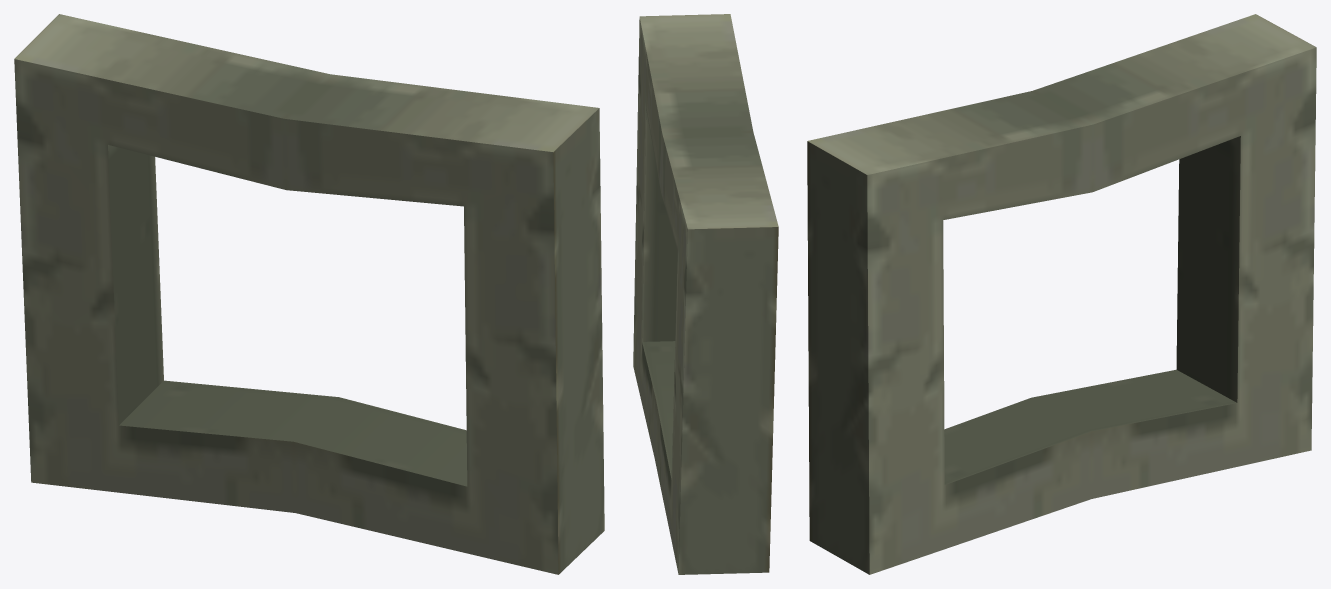
3 views of the same model, side by side, from view 1: azimuth 30°, elevation 25°; view 2: azimuth 150°, elevation 25°; view 3: azimuth 270°, elevation 25° (orthographic). The views are drawn at different scales.
Parts seen in each view (by area): view 1: A_jz_16; view 2: A_jz_16; view 3: A_jz_16.
Boxes of the visible parts, x1=… form: A_jz_16: x1=14, y1=14, x2=604, y2=574; A_jz_16: x1=633, y1=14, x2=778, y2=574; A_jz_16: x1=807, y1=14, x2=1316, y2=574.
Size of the model in its own units: 48.31 by 52.53 by 59.56.
